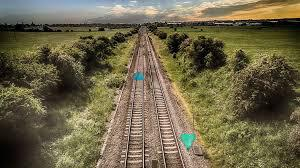Color_steel: (131, 71, 146, 82)
Dust_screen: (180, 130, 196, 151)
